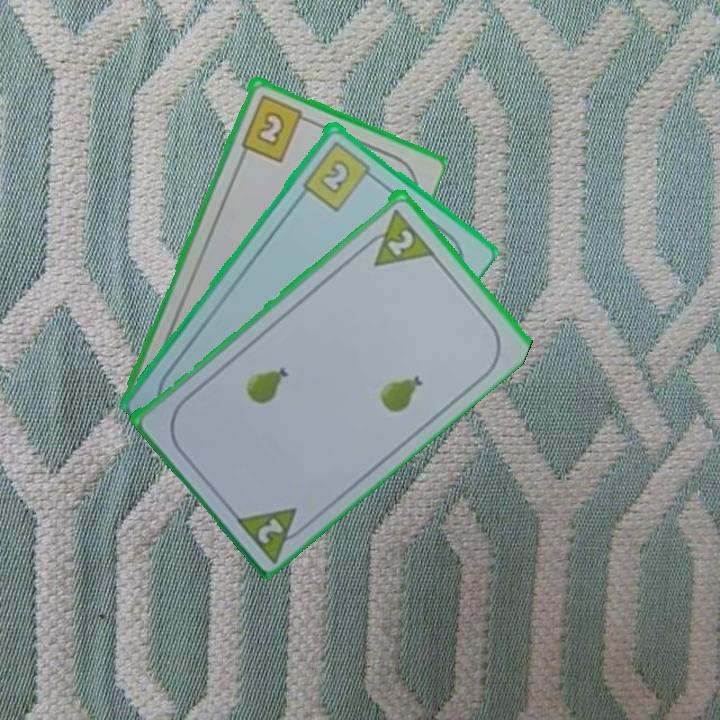2b: (299, 136, 379, 213), (237, 91, 313, 164)
2p: (383, 225, 417, 259), (253, 513, 287, 547)
